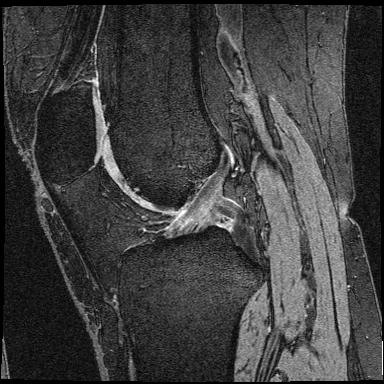SagKneeJointArea: (34, 80, 265, 316)
